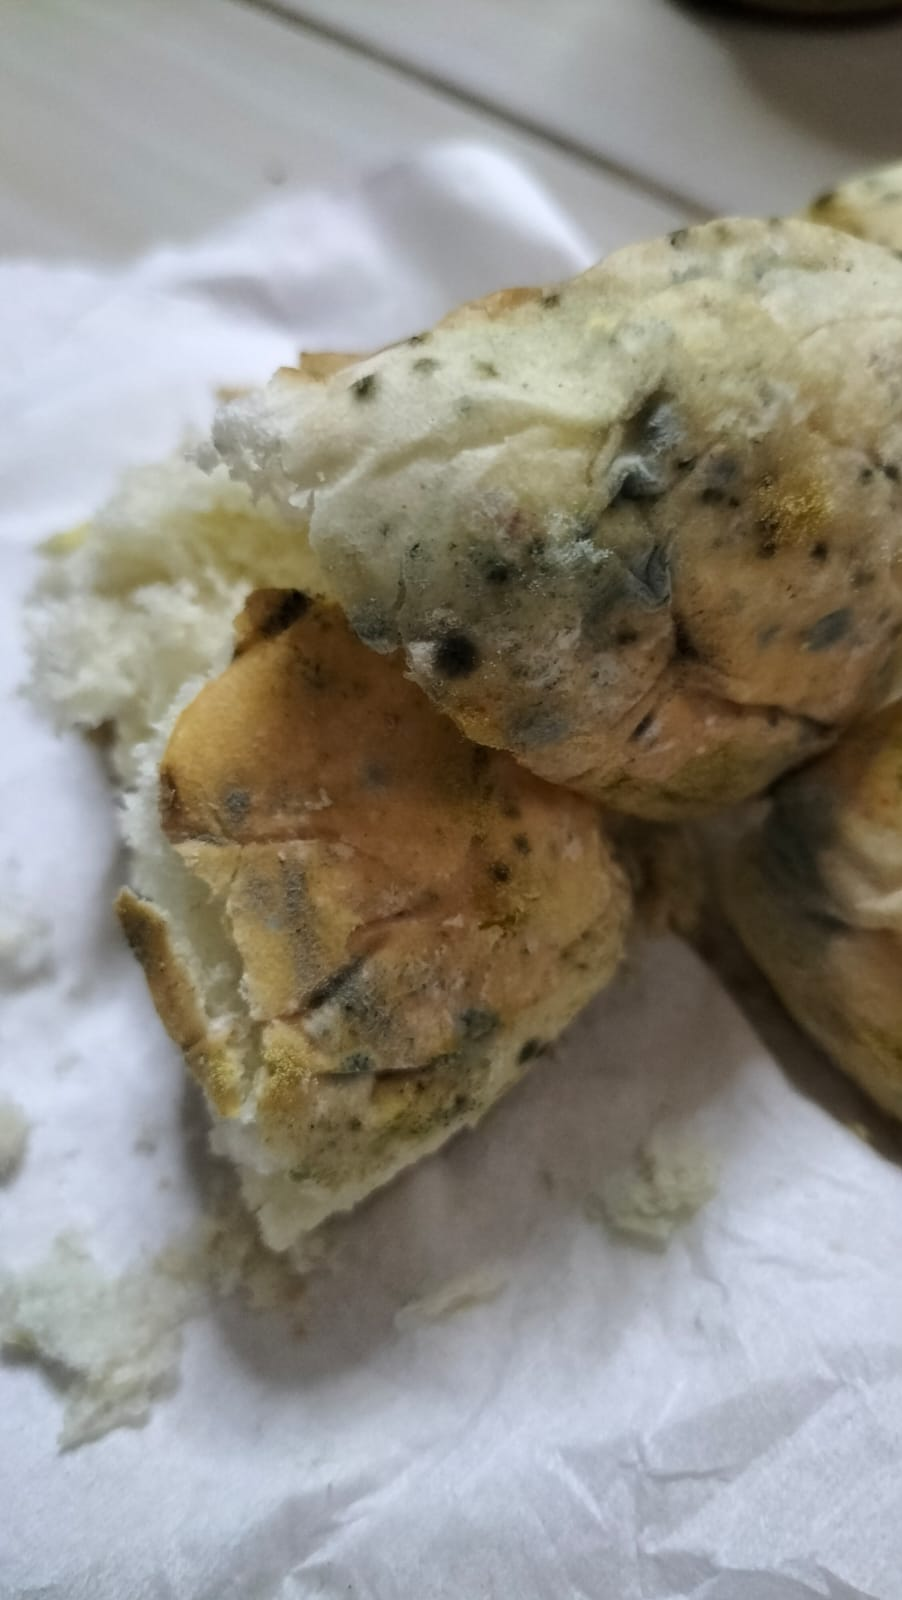mold_bread: (388, 484, 678, 745), (230, 873, 339, 1004), (710, 464, 840, 570), (328, 342, 525, 407), (479, 790, 536, 909), (209, 780, 261, 833)
